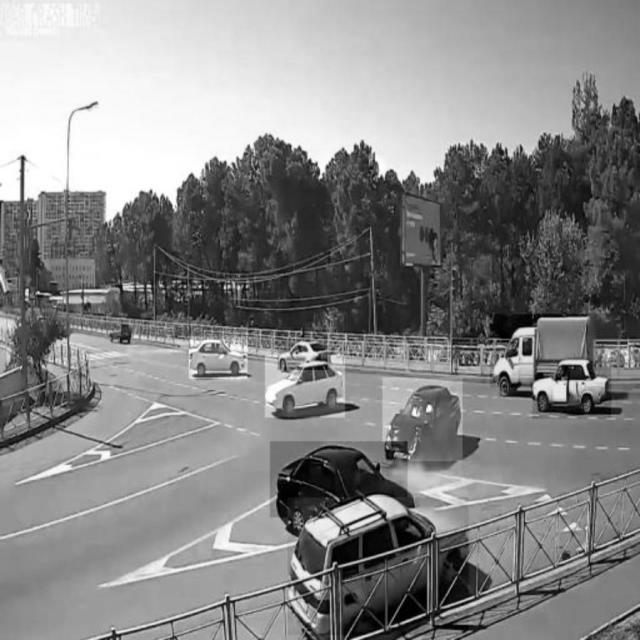vehicle: (288, 498, 468, 635), (270, 442, 407, 518), (490, 314, 588, 387), (383, 378, 463, 461), (265, 355, 345, 417), (533, 361, 611, 418), (189, 338, 247, 380), (277, 333, 327, 370), (105, 316, 133, 342)
